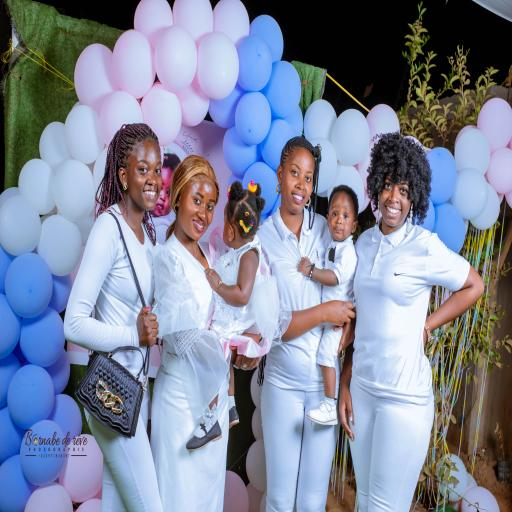LAURENE: (110, 129, 164, 212)
